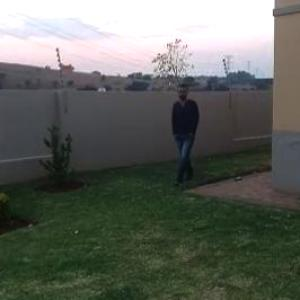follow: (172, 80, 206, 184)
